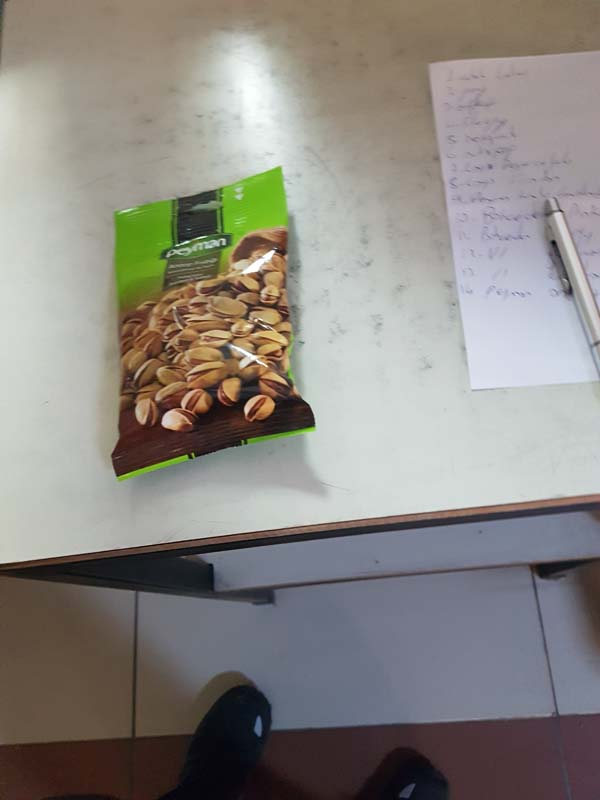antepfistigi: (92, 163, 319, 484)
